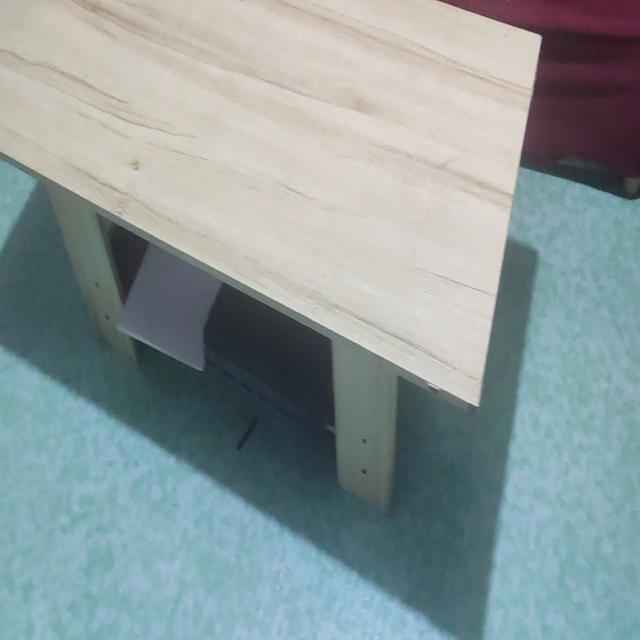table: (0, 0, 550, 510)
